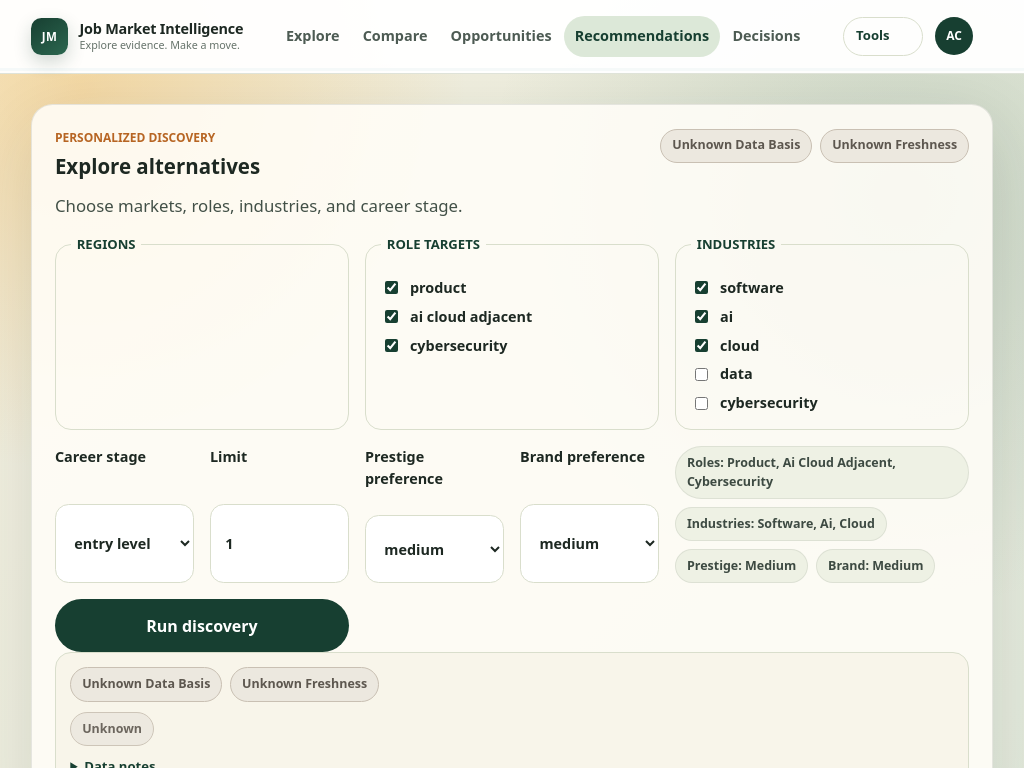
Test: public demo routes › personalized discovery renders coverage warnings and cautious ranked labels
Click the button "Run discovery" at [202, 626], box [55,599,349,652]
(page scrolled)
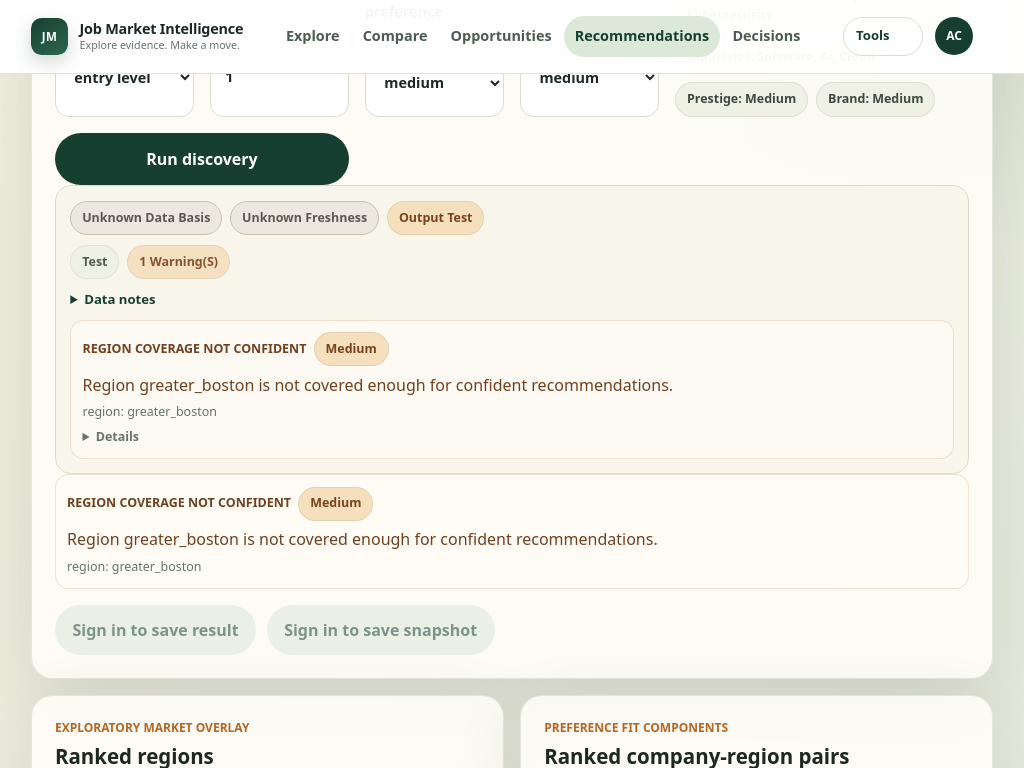
Expected: the heading "Ranked company-region pairs" is shown, [544,745,850,767]
Expected: the text "not covered enough for confident recommendations" below "Data notes" is shown, [82,374,673,396]
